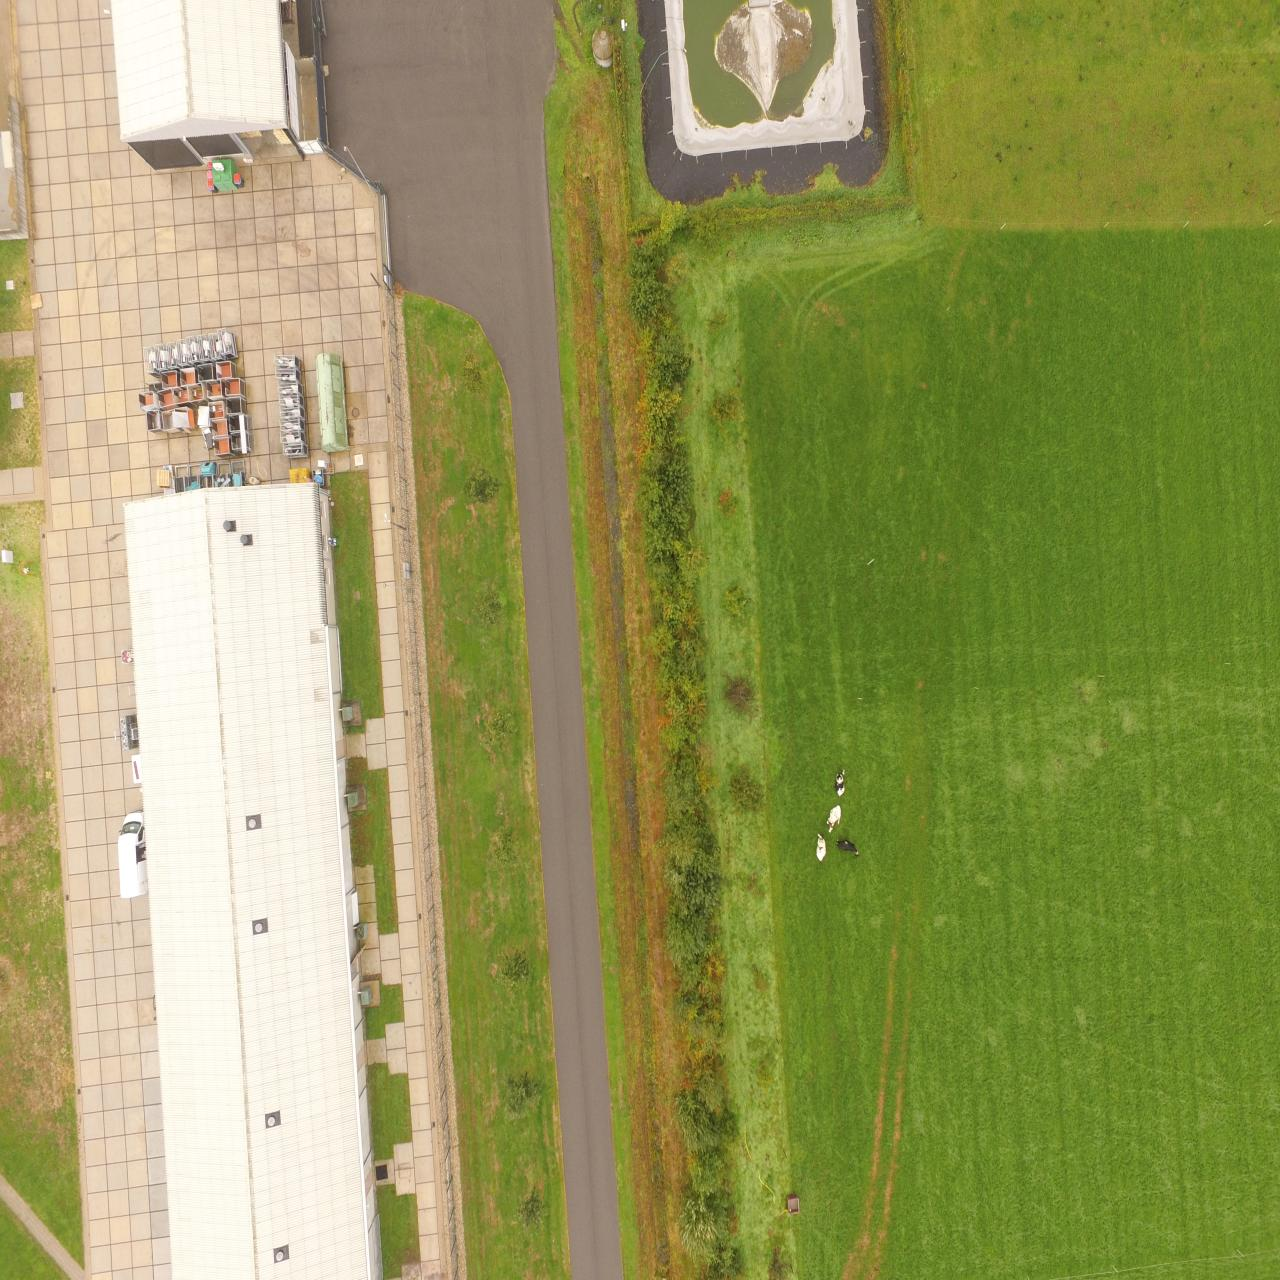cow: (824, 798, 845, 836), (831, 763, 849, 799), (813, 830, 830, 862), (838, 836, 859, 858)
